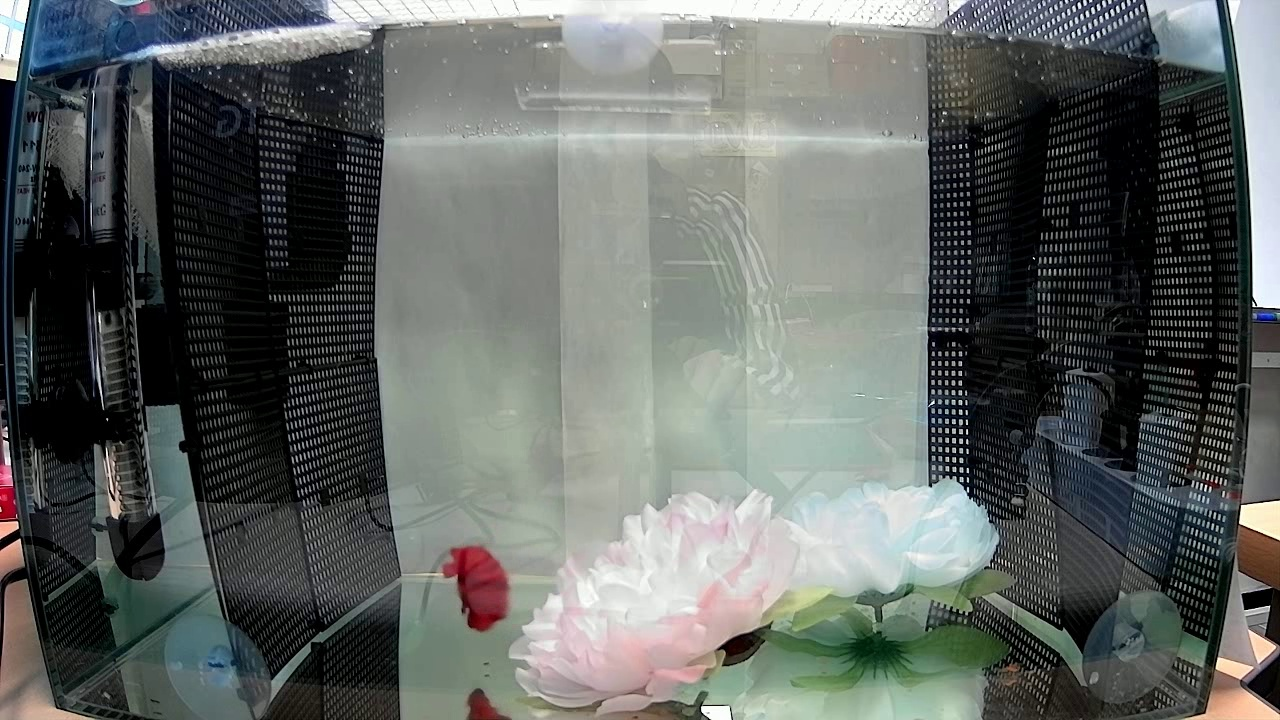fish: (437, 542, 513, 631)
